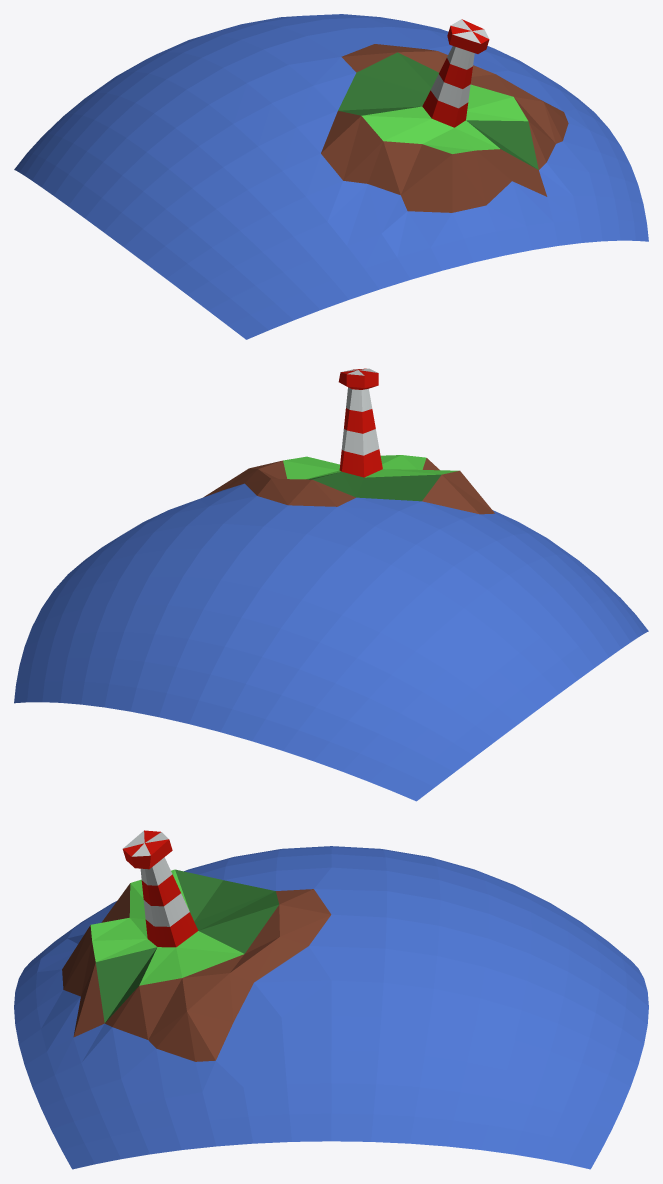
Rendered from CubePart005.fbx.
3 views of the same model, one above another, from view 1: azimuth 30°, elevation 25°; view 2: azimuth 150°, elevation 25°; view 3: azimuth 270°, elevation 25° (orthographic). The views are drawn at different scales.
Visible parts, largest first — view 1: Cube.008; view 2: Cube.008; view 3: Cube.008.
Boxes of the visible parts, left/top/right/bottom form: Cube.008: left=14, top=14, right=648, bottom=339; Cube.008: left=14, top=368, right=648, bottom=801; Cube.008: left=14, top=830, right=648, bottom=1169.
Bounding box in the file's own units: 181 × 79.46 × 181.
